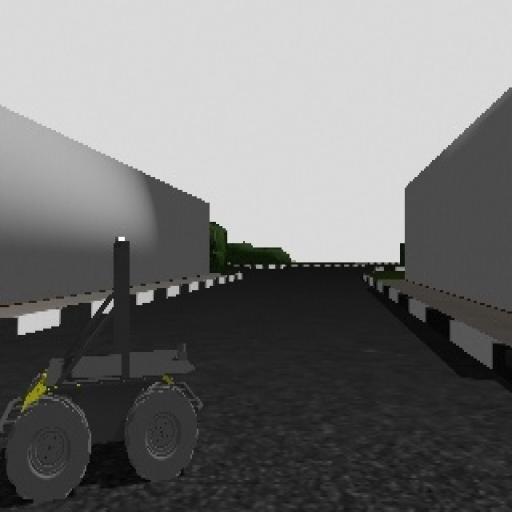huskya200: (0, 224, 214, 512)
